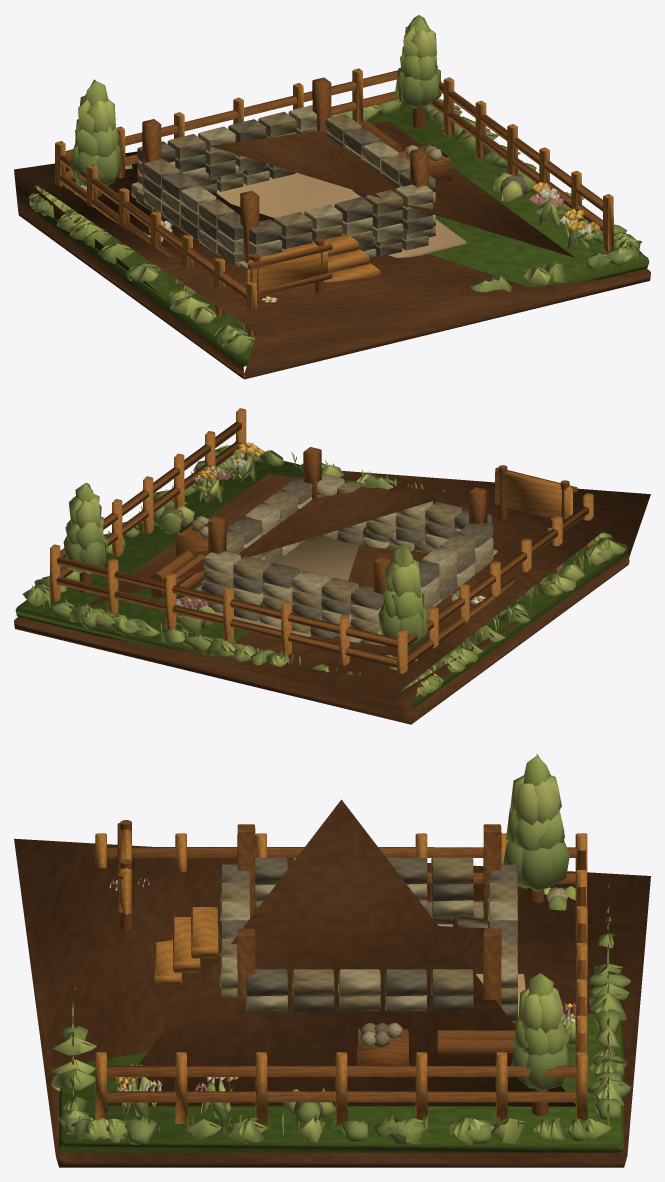
The model's file is stage-2-low.glb.
3 renders of one model, top to bottom at view 1: azimuth 30°, elevation 25°; view 2: azimuth 150°, elevation 25°; view 3: azimuth 270°, elevation 25°, orthographic. The views are drawn at different scales.
Parts seen in each view (by area): view 1: Surface_Ochre earth, Surface_Honey wood, Surface_Moss lawn, Surface_Golden end grain, Surface_Stone 0, Surface_Stone 2, Surface_Stone 1, Surface_Foliage 1, Surface_Foliage 0, Surface_Foliage 2, Surface_Garden soil, Surface_Petal marigold; view 2: Surface_Ochre earth, Surface_Honey wood, Surface_Moss lawn, Surface_Golden end grain, Surface_Foliage 1, Surface_Stone 0, Surface_Stone 2, Surface_Stone 1, Surface_Foliage 0, Surface_Foliage 2, Surface_Garden soil, Surface_Petal marigold; view 3: Surface_Ochre earth, Surface_Honey wood, Surface_Moss lawn, Surface_Golden end grain, Surface_Foliage 0, Surface_Foliage 1, Surface_Stone 2, Surface_Stone 0, Surface_Foliage 2, Surface_Stone 1.
Part boxes in pixels (x1,y1,x2,y2): Surface_Ochre earth: [14, 121, 650, 379]; Surface_Honey wood: [60, 70, 608, 300]; Surface_Moss lawn: [19, 101, 649, 366]; Surface_Golden end grain: [55, 68, 613, 337]; Surface_Stone 0: [131, 111, 436, 265]; Surface_Stone 2: [137, 119, 527, 255]; Surface_Stone 1: [79, 105, 442, 283]; Surface_Foliage 1: [28, 15, 641, 354]; Surface_Foliage 0: [34, 67, 642, 343]; Surface_Foliage 2: [29, 26, 637, 344]; Surface_Garden soil: [216, 172, 466, 257]; Surface_Petal marigold: [161, 182, 600, 300]; Surface_Ochre earth: [14, 471, 650, 724]; Surface_Honey wood: [56, 422, 588, 667]; Surface_Moss lawn: [15, 461, 627, 709]; Surface_Golden end grain: [50, 408, 593, 673]; Surface_Foliage 1: [22, 441, 626, 696]; Surface_Stone 0: [190, 480, 493, 645]; Surface_Stone 2: [159, 477, 493, 638]; Surface_Stone 1: [196, 473, 524, 658]; Surface_Foliage 0: [31, 447, 614, 690]; Surface_Foliage 2: [30, 442, 613, 696]; Surface_Garden soil: [183, 536, 358, 636]; Surface_Petal marigold: [181, 442, 481, 607]; Surface_Ochre earth: [14, 799, 650, 1167]; Surface_Honey wood: [106, 820, 585, 1115]; Surface_Moss lawn: [59, 1013, 624, 1152]; Surface_Golden end grain: [95, 829, 587, 1124]; Surface_Foliage 0: [61, 840, 631, 1145]; Surface_Foliage 1: [51, 753, 627, 1145]; Surface_Stone 2: [220, 857, 571, 1118]; Surface_Stone 0: [220, 857, 517, 1046]; Surface_Foliage 2: [51, 775, 626, 1142]; Surface_Stone 1: [220, 883, 567, 1046].
Bounding box in the file's own units: 7.43 × 2.53 × 7.69.
Materials: 14 (7 with a texture image).
